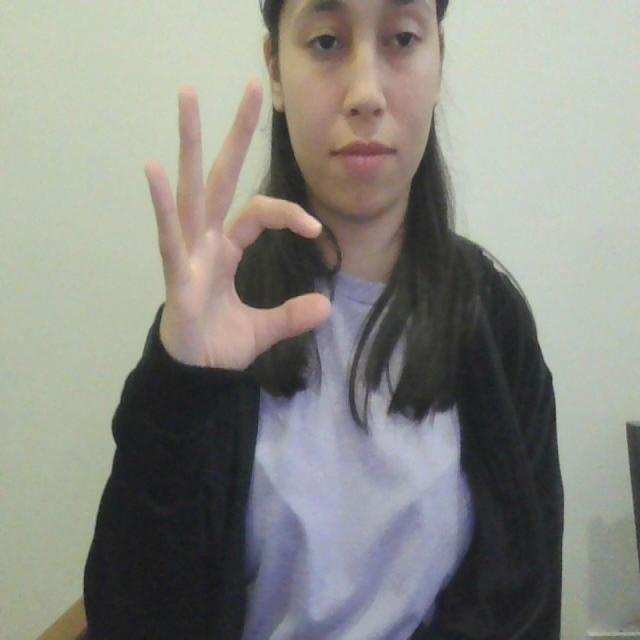Tuvalet: (122, 59, 341, 387)
